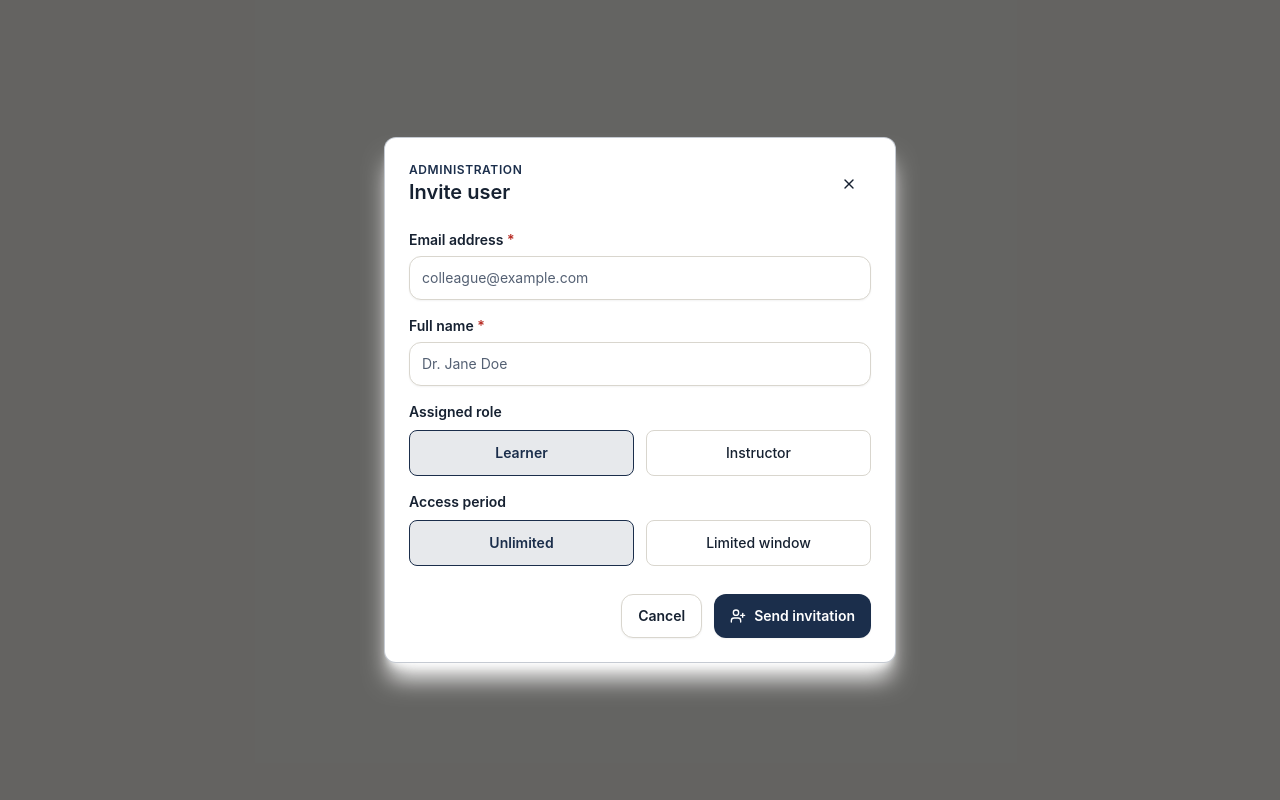
Test: InviteUserDialog › validates that expiry date must be in the future
Type "learner@test.com" into the field labelled "Email address *".
click(640, 278); type("learner@test.com")  # box 409,256 -> 871,300
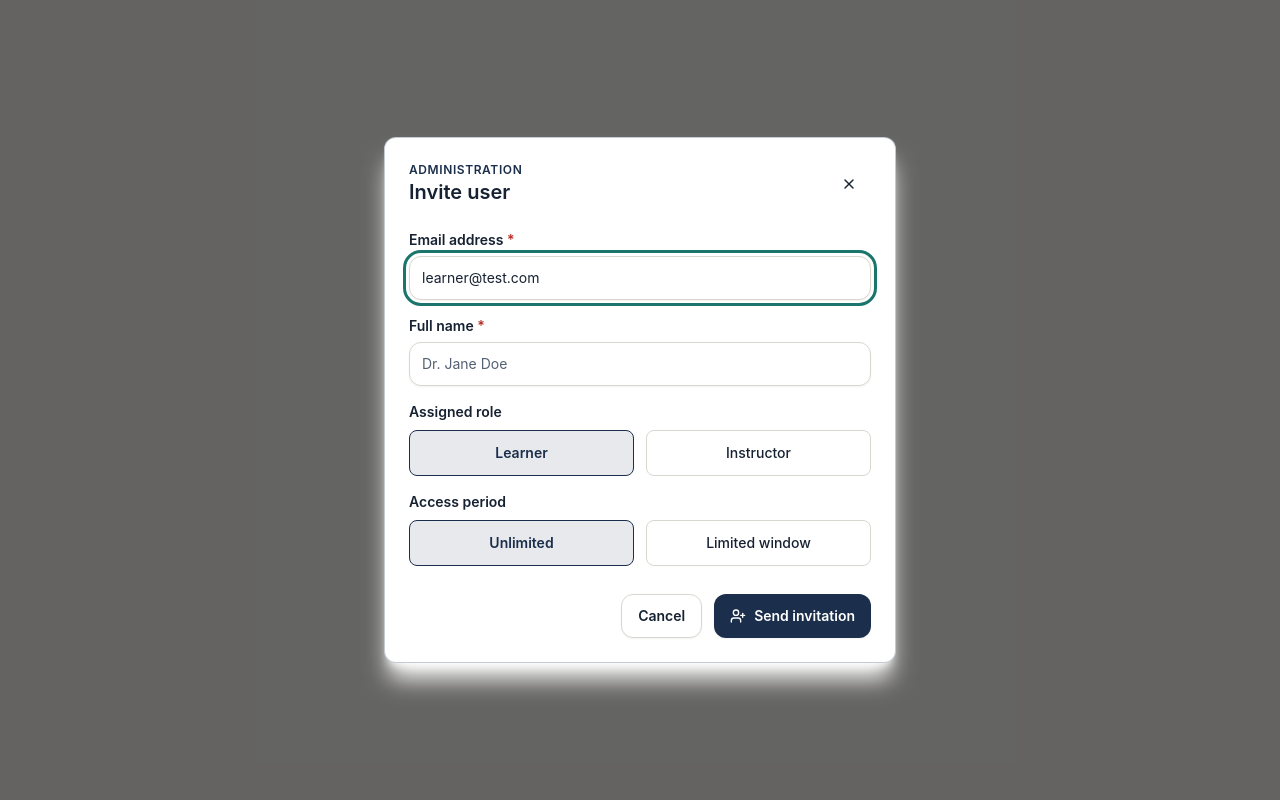
Type "Test Learner" into the field labelled "Full name *".
click(640, 364); type("Test Learner")  # box 409,342 -> 871,386
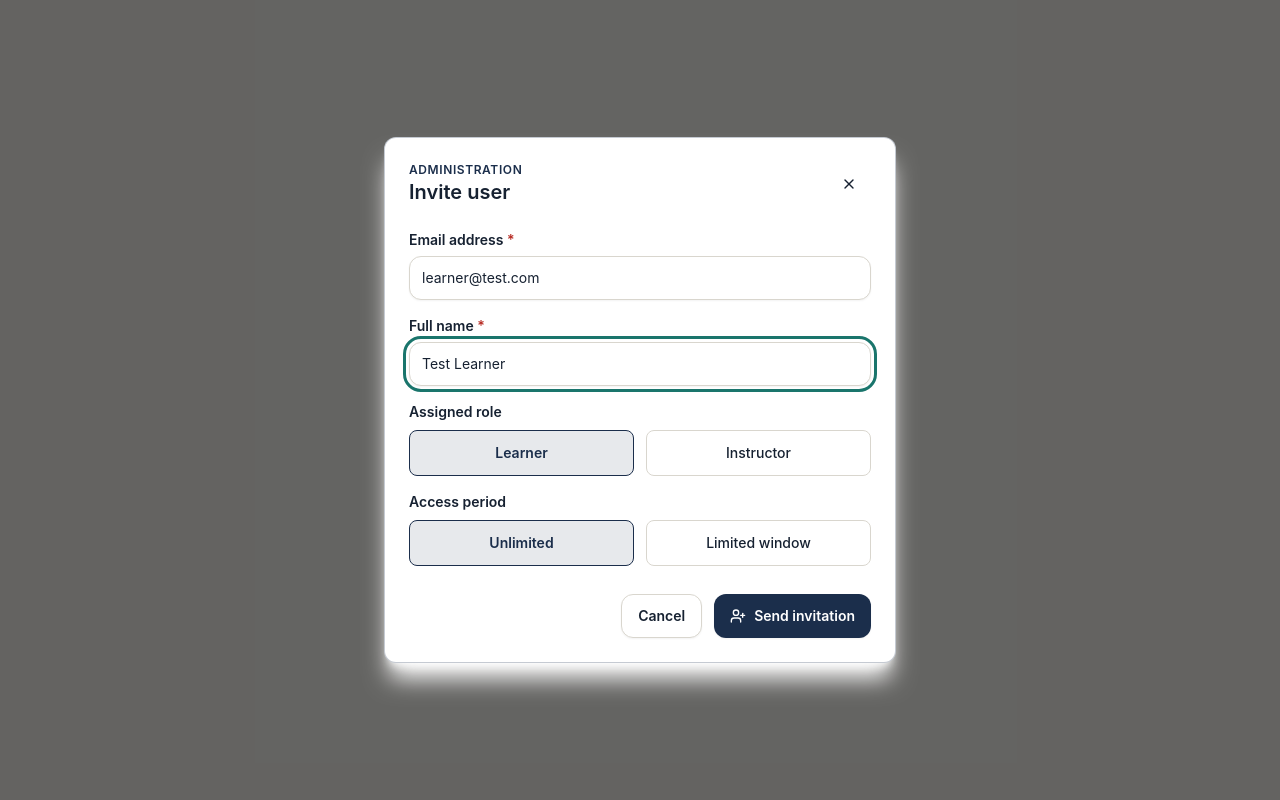
Click the radio button labelled "Limited window".
click(758, 543)  # box 646,520 -> 871,566
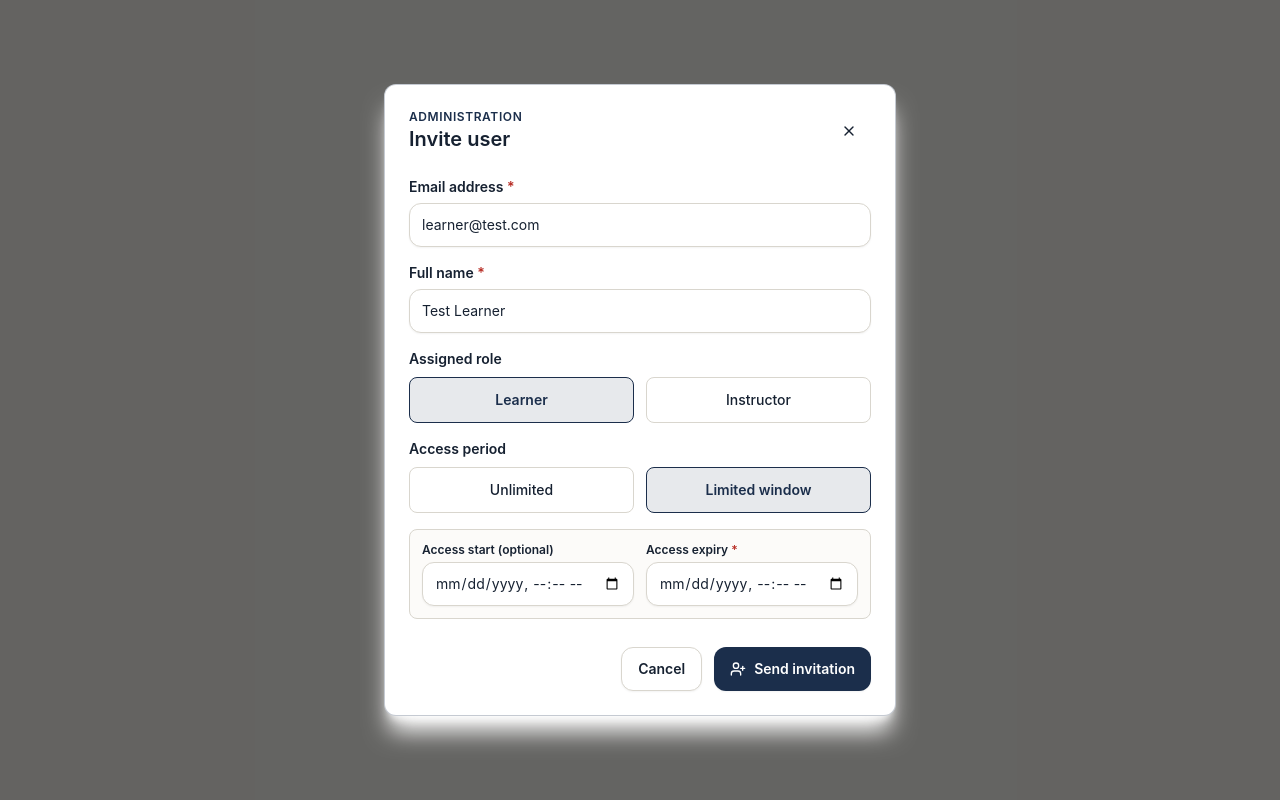
Type "2020-01-01T00:00" into the field labelled "Access expiry *".
click(752, 584); type("2020-01-01T00:00")  # box 646,562 -> 858,606
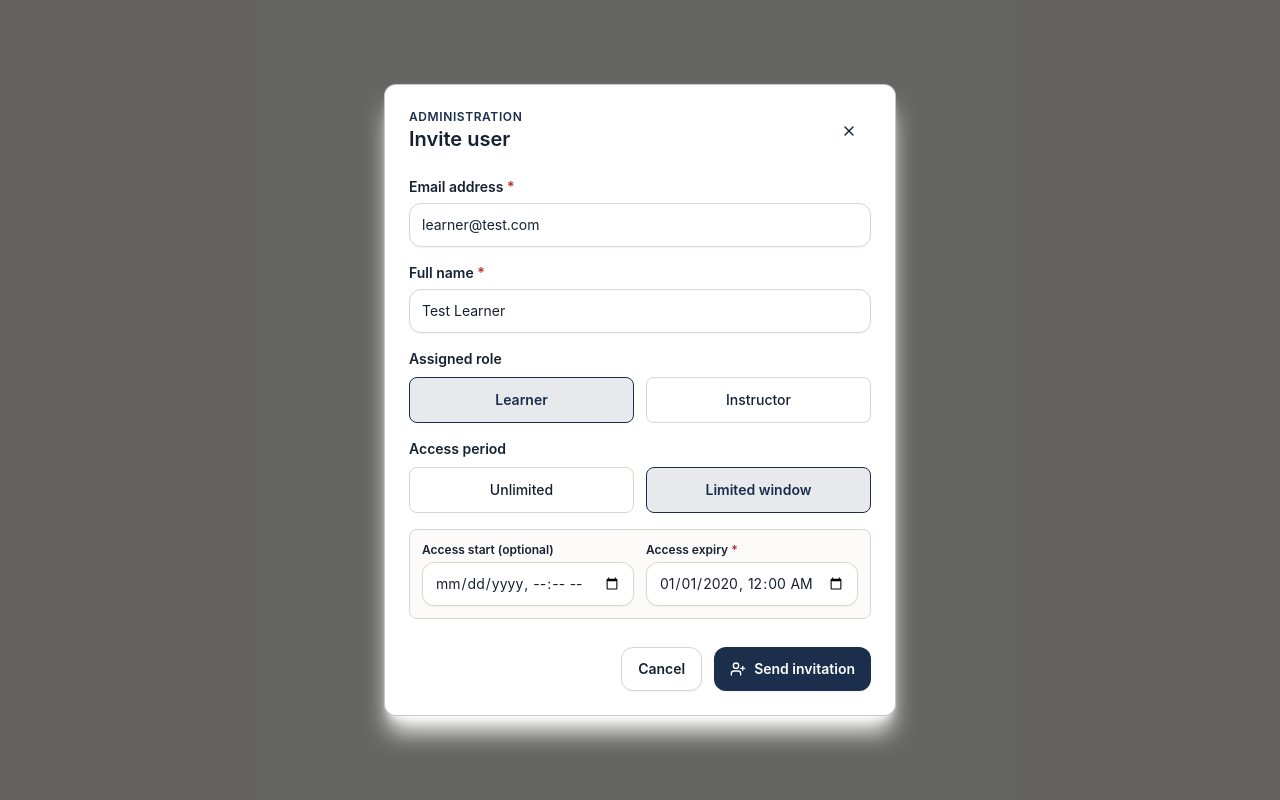
Click the button "Send invitation".
click(793, 669)  # box 714,647 -> 871,691
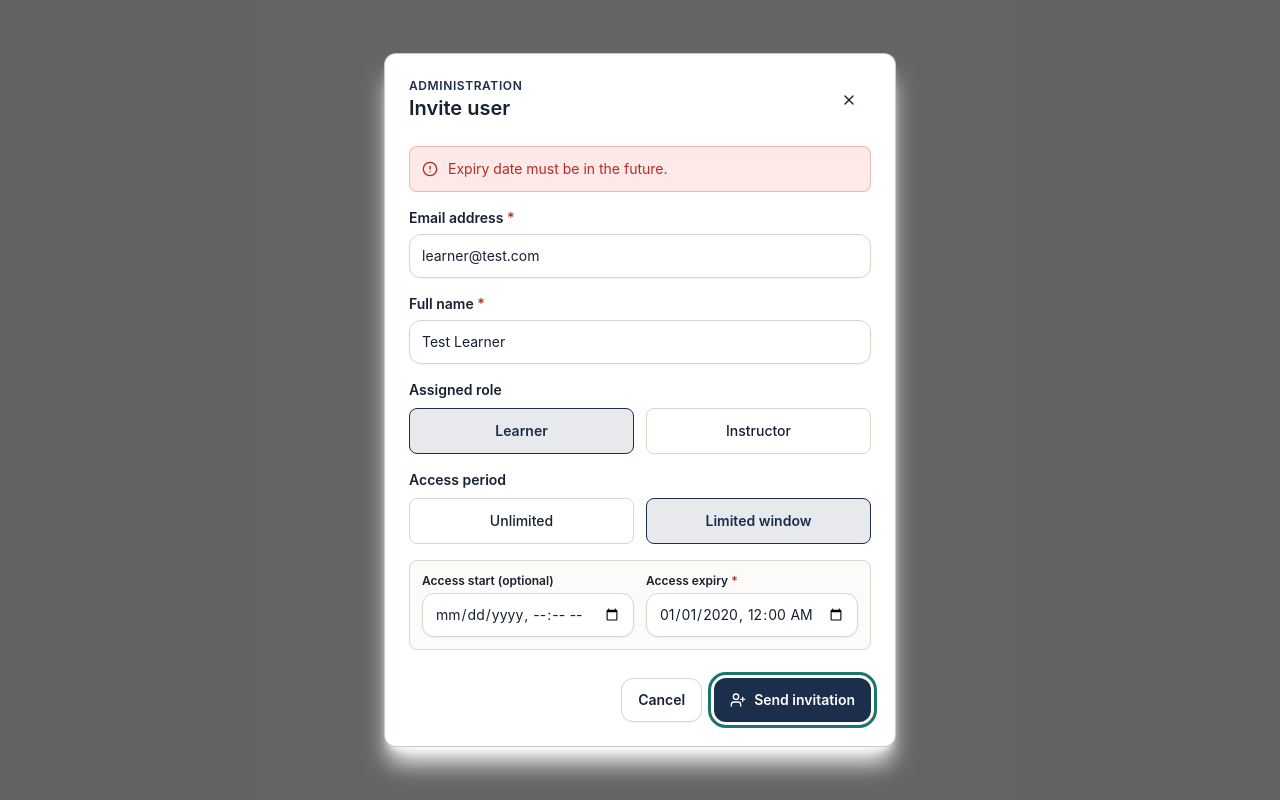
Now the text "Expiry date must be in the future." is shown, box 448,159 -> 668,179
